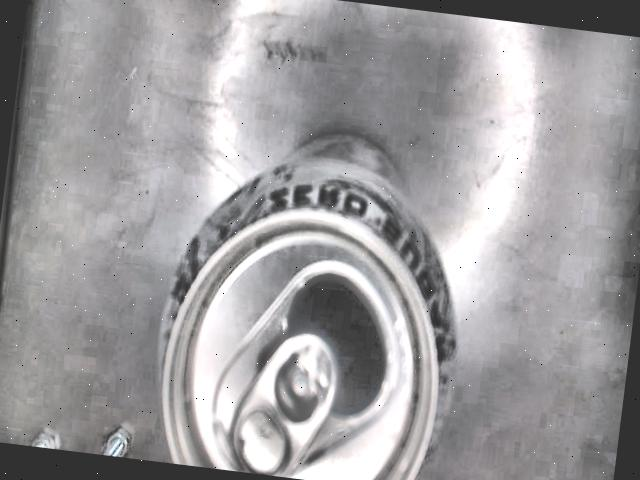Bottles: (152, 133, 461, 480)
